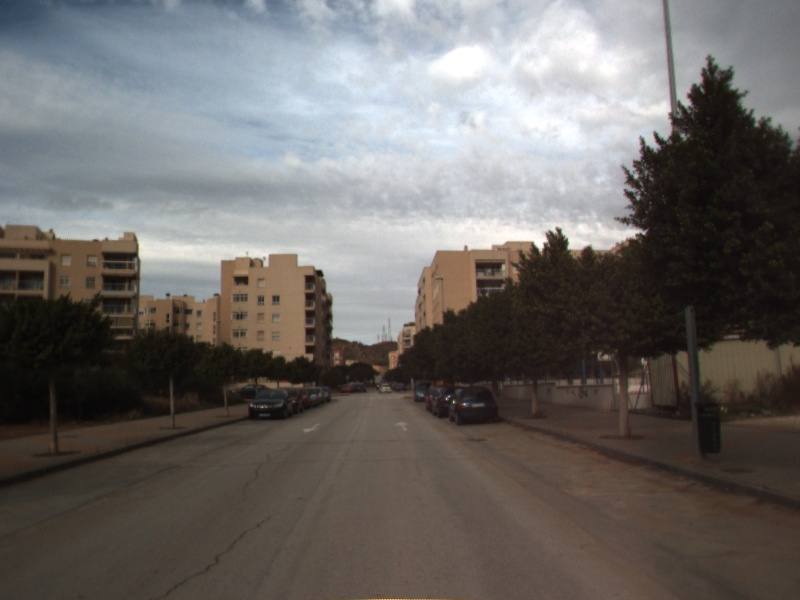STRAIGHT: (392, 420, 413, 433)
